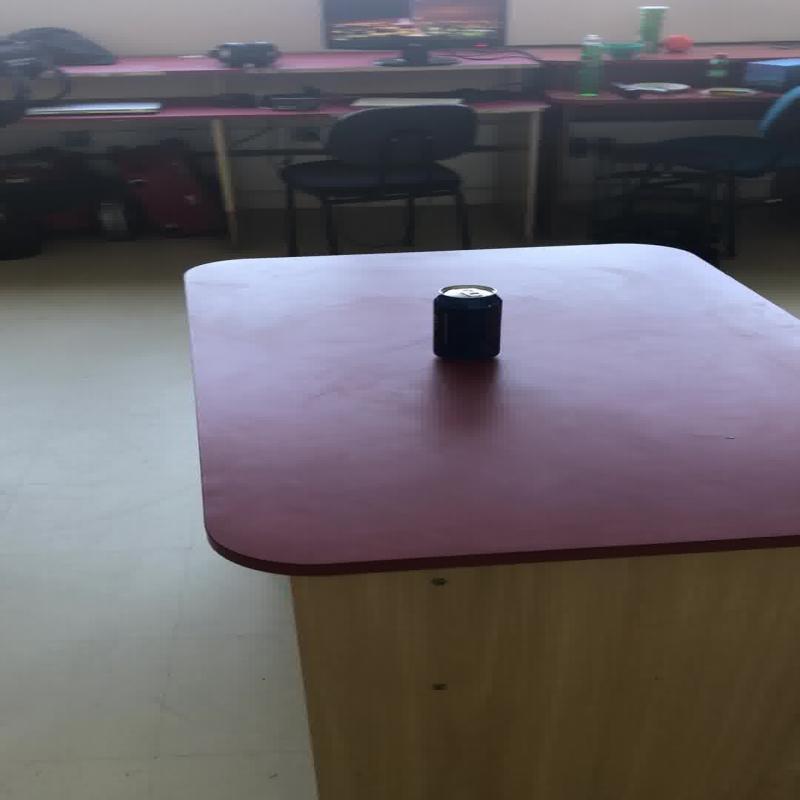tonic: (430, 283, 502, 359), (574, 32, 604, 96), (634, 5, 668, 52), (703, 51, 730, 88)
